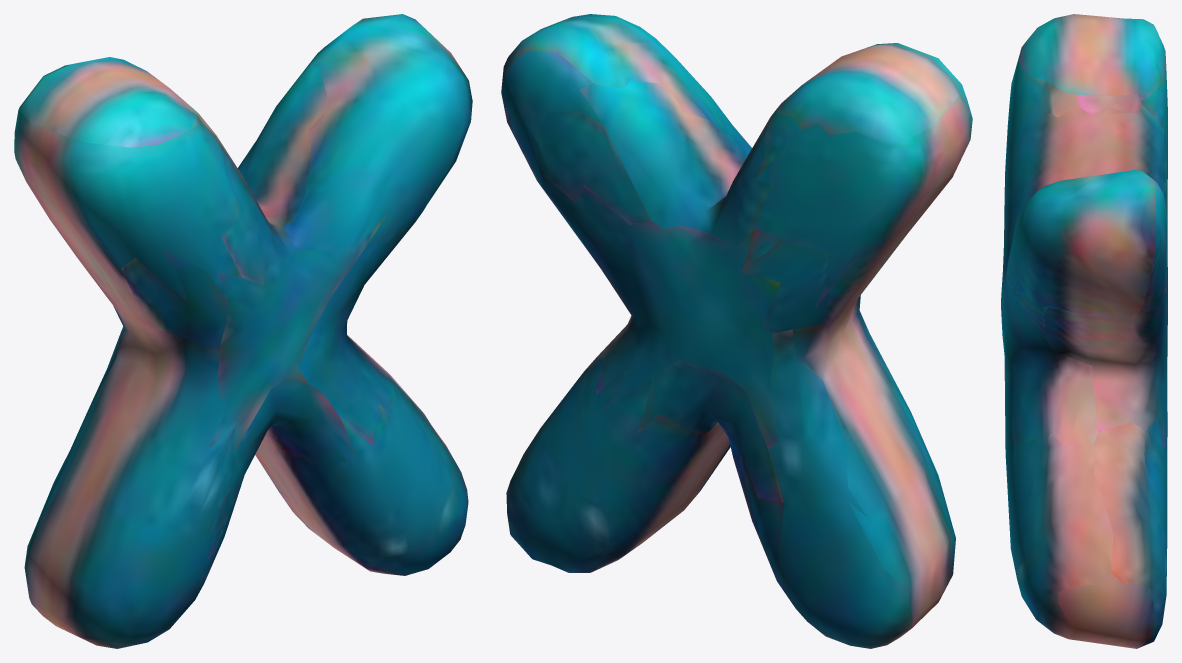
3 views of the same model, side by side, from view 1: azimuth 30°, elevation 25°; view 2: azimuth 150°, elevation 25°; view 3: azimuth 270°, elevation 25° (orthographic). The views are drawn at different scales.
Parts seen in each view (by area): view 1: Candy-Letter-X; view 2: Candy-Letter-X; view 3: Candy-Letter-X.
Part boxes in pixels (x1,y1,x2,y2): Candy-Letter-X: [14, 14, 472, 648]; Candy-Letter-X: [501, 14, 972, 648]; Candy-Letter-X: [1001, 14, 1167, 648].
Bounding box in the file's own units: 0.2756 × 0.3527 × 0.1065.
Materials: 1 (1 with a texture image).
